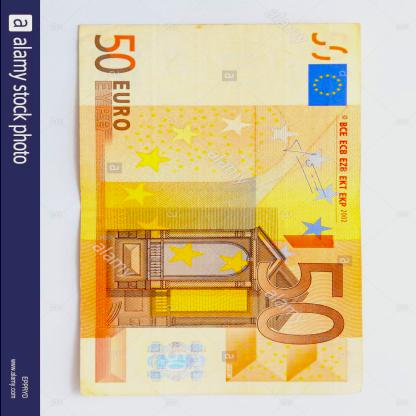euro_banknote: (36, 69, 406, 352)
